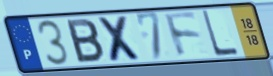3: (36, 18, 71, 68)
7: (134, 10, 164, 64)
B: (64, 18, 106, 65)
F: (162, 11, 204, 61)
L: (200, 9, 241, 59)
X: (95, 14, 146, 64)
